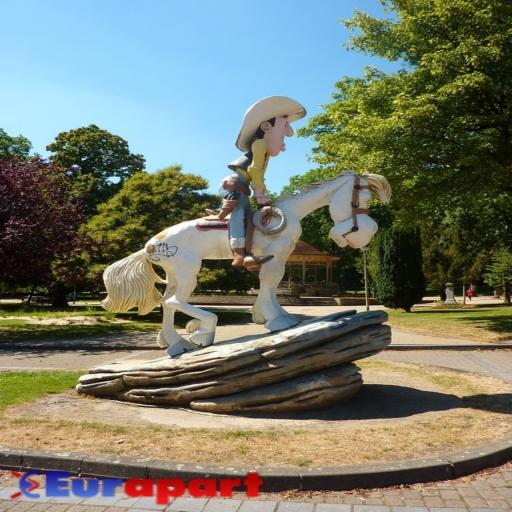Horse: (103, 166, 393, 359)
